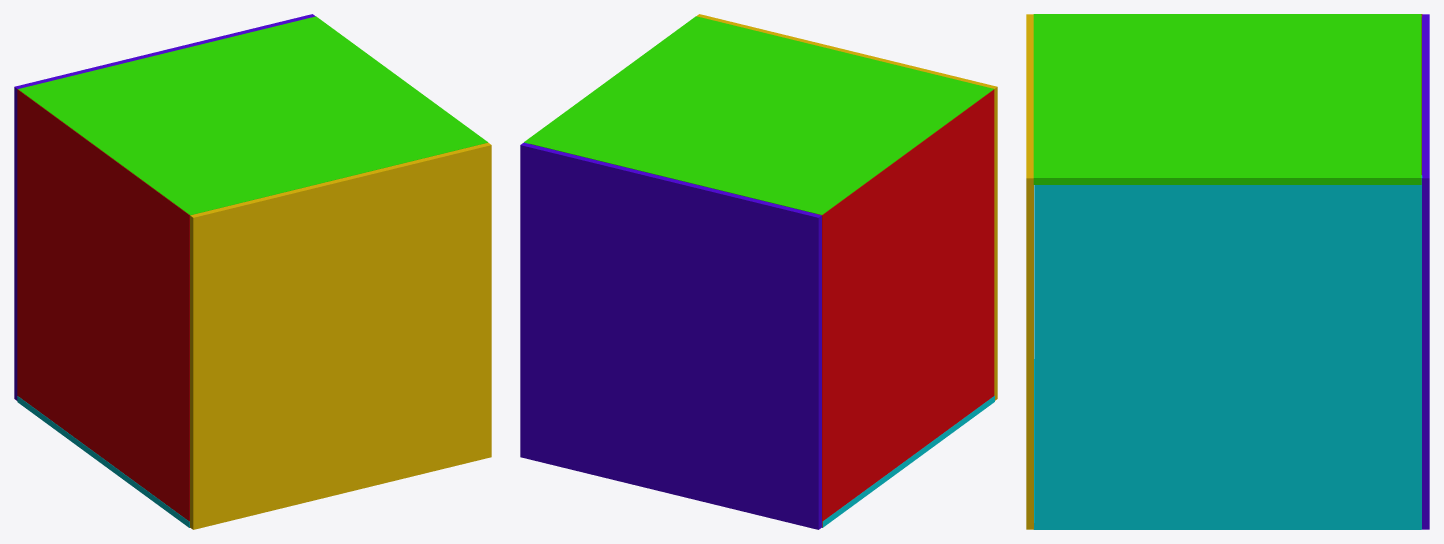
The picture shows the model from 3 angles, left to right: view 1: azimuth 30°, elevation 25°; view 2: azimuth 150°, elevation 25°; view 3: azimuth 270°, elevation 25°; orthographic projection. The views are drawn at different scales.
Parts seen in each view (by area): view 1: Cube.001; view 2: Cube.001; view 3: Cube.001.
Boxes of the visible parts, left/top/right/bottom form: Cube.001: left=14, top=14, right=491, bottom=529; Cube.001: left=520, top=14, right=997, bottom=529; Cube.001: left=1026, top=14, right=1429, bottom=529.
Bounding box in the file's own units: 2004 × 2004 × 2080.
